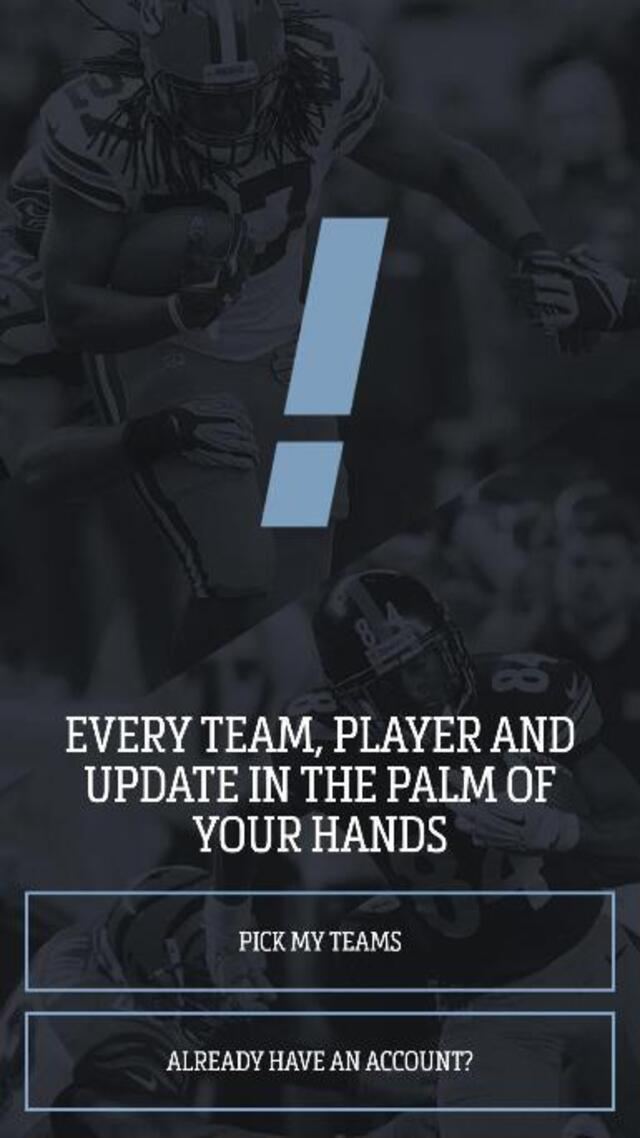Text: (63, 714, 578, 754), (80, 764, 560, 806), (190, 812, 453, 857), (160, 1046, 479, 1074), (229, 928, 409, 957)
TextButton: (24, 890, 614, 991), (24, 1010, 614, 1110)
